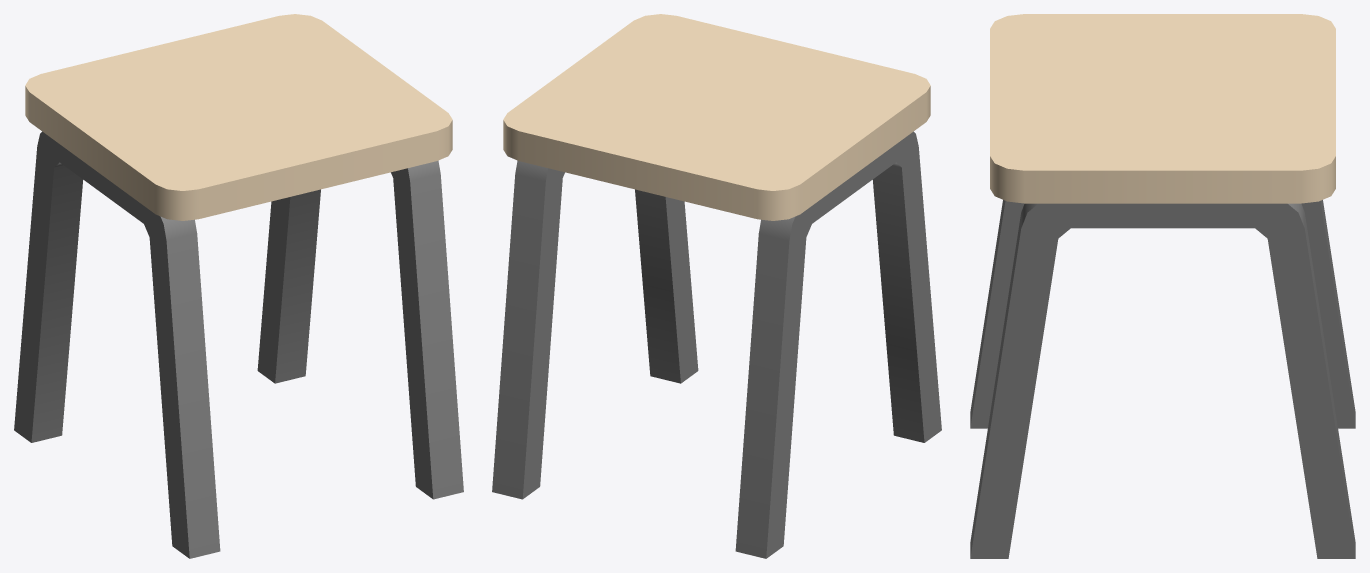
The model's file is stool.glb.
The picture shows the model from 3 angles, left to right: view 1: azimuth 30°, elevation 25°; view 2: azimuth 150°, elevation 25°; view 3: azimuth 270°, elevation 25°; orthographic projection. The views are drawn at different scales.
Visible parts, largest first — view 1: Stool_A; view 2: Stool_A; view 3: Stool_A.
Boxes of the visible parts, x1,y1,x2,y2 form: Stool_A: (14, 14, 463, 558); Stool_A: (492, 14, 941, 558); Stool_A: (970, 14, 1355, 558).
Bounding box in the file's own units: 0.611 × 0.7149 × 0.6349.
Materials: 1 (1 with a texture image).
